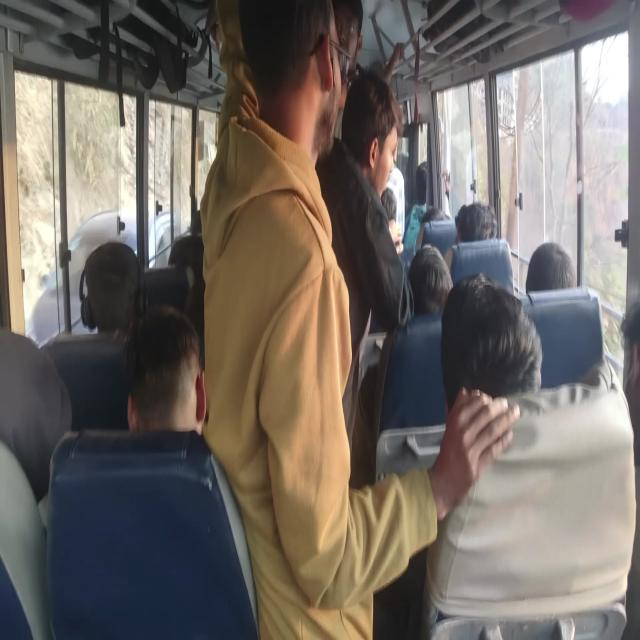person: (443, 279, 572, 449), (252, 5, 342, 187), (119, 310, 221, 469), (0, 335, 76, 506), (334, 63, 396, 216), (82, 230, 142, 340), (522, 240, 583, 313), (394, 257, 450, 331), (612, 275, 640, 402), (457, 198, 503, 253), (331, 0, 358, 76), (406, 154, 440, 214), (378, 187, 404, 247), (168, 232, 204, 270)
